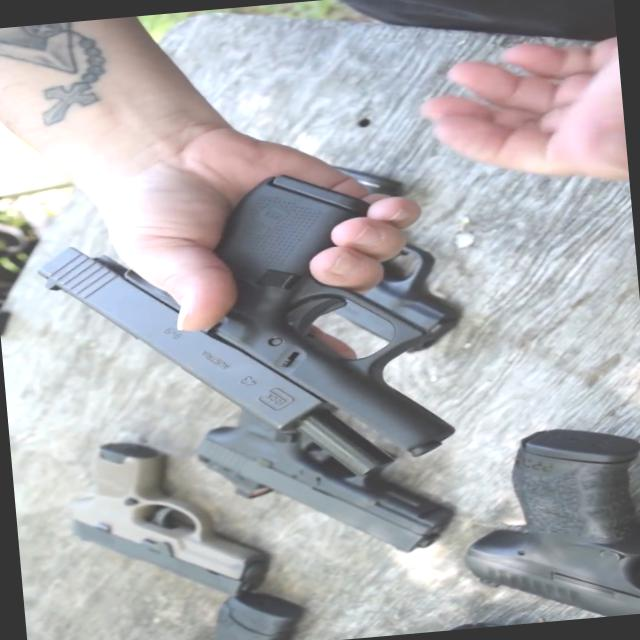handgun: (66, 155, 472, 502), (187, 351, 471, 596), (58, 422, 296, 612), (455, 410, 639, 628)
